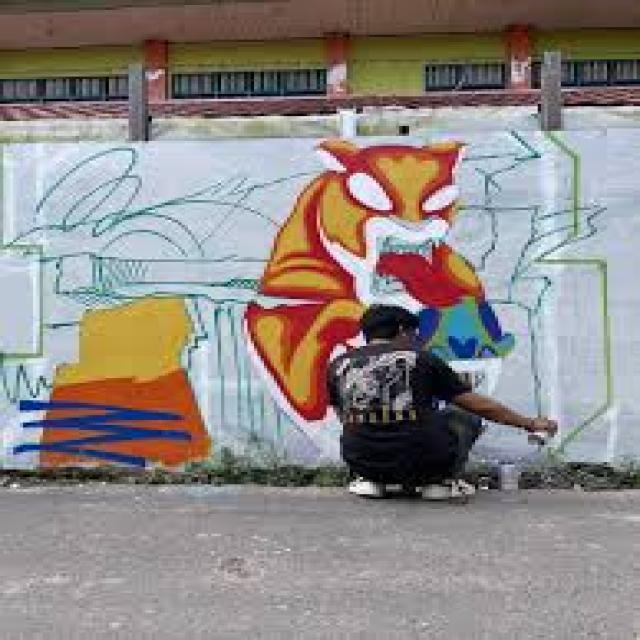-: (2, 132, 614, 465), (242, 138, 518, 428), (14, 296, 216, 468)
